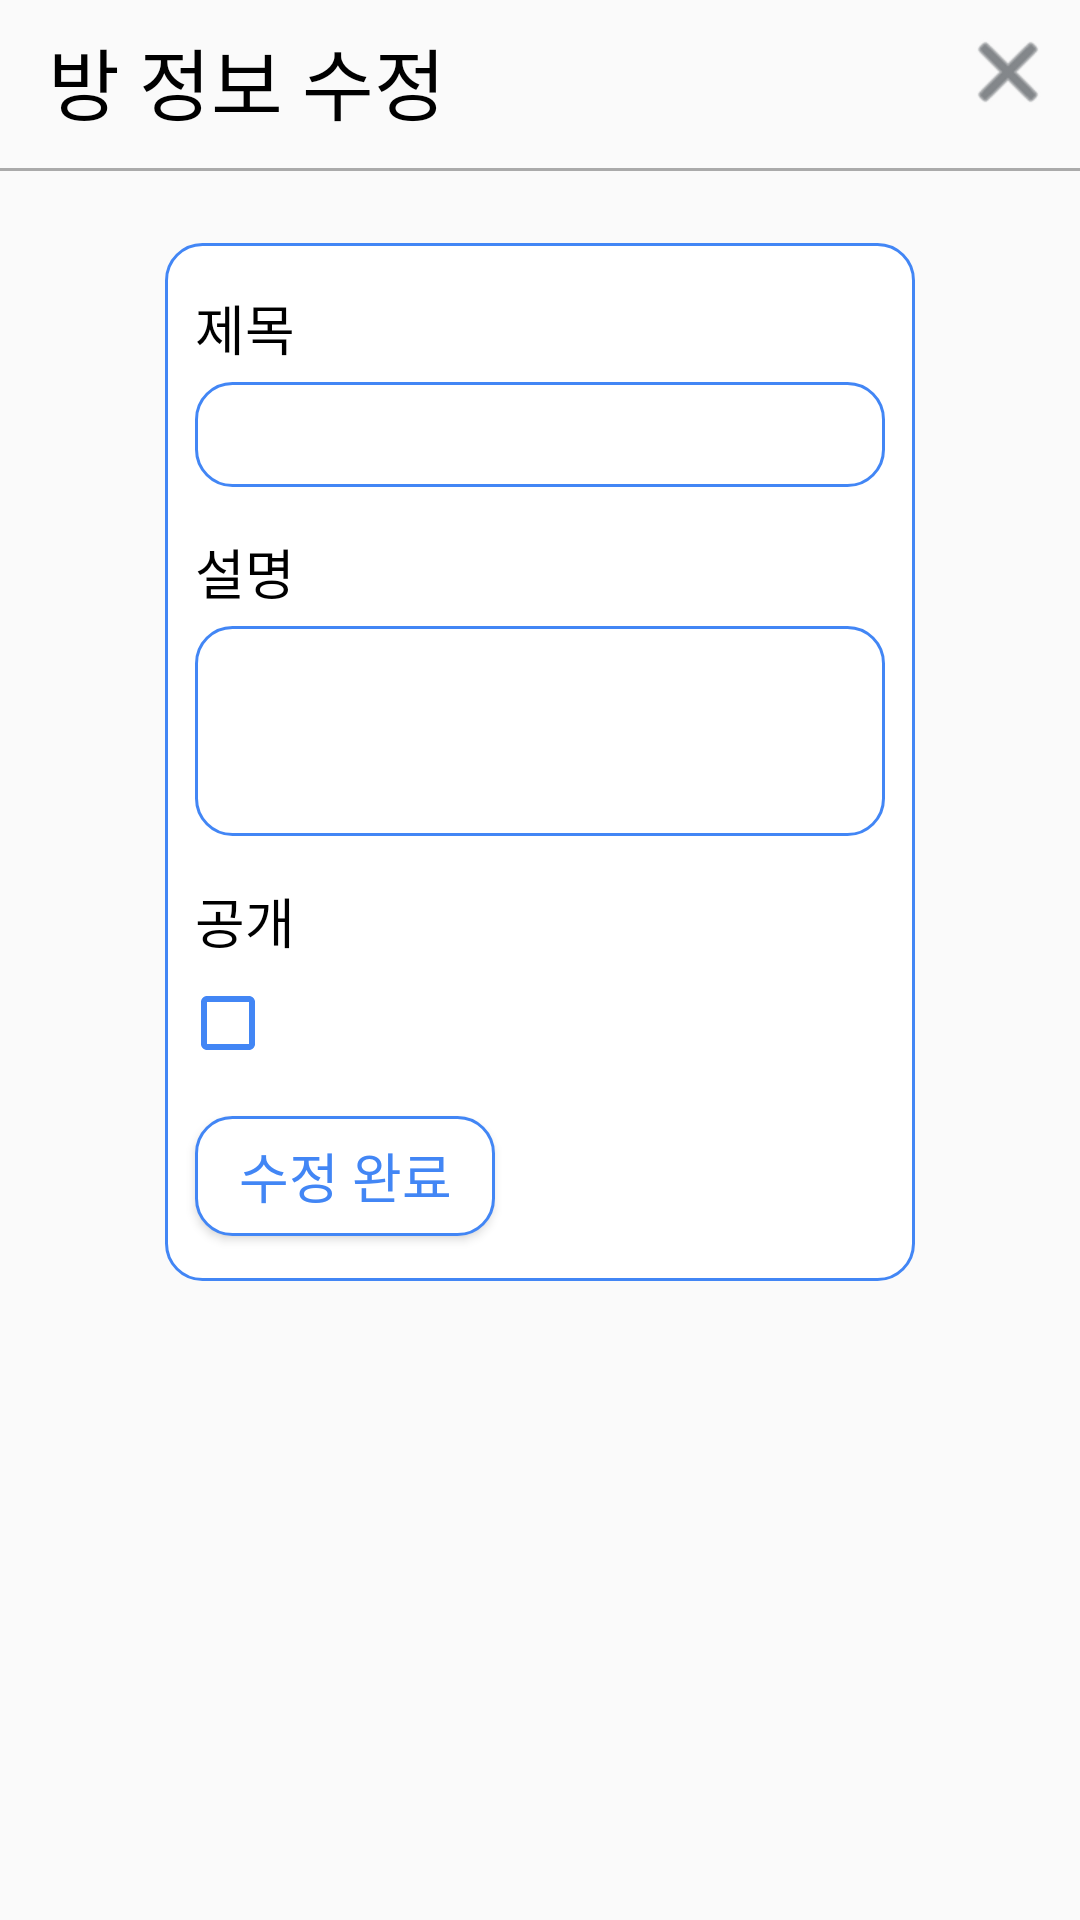

Screen size 1080 × 1920. Icon name, then its center in pixels as point (x, y):
close clear cancel: point (1008, 72)
